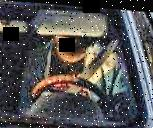seatbelt: (61, 31, 123, 91)
